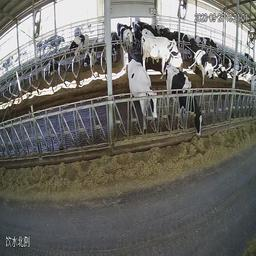cow: (164, 64, 205, 140), (129, 62, 159, 137), (141, 32, 175, 72), (189, 36, 208, 89), (69, 31, 90, 59), (215, 59, 231, 81), (110, 30, 119, 67), (177, 25, 189, 52), (229, 59, 242, 82), (46, 58, 59, 81), (123, 29, 135, 52), (131, 20, 142, 44), (249, 70, 256, 106), (83, 49, 97, 67), (204, 59, 216, 78), (205, 39, 219, 52)
